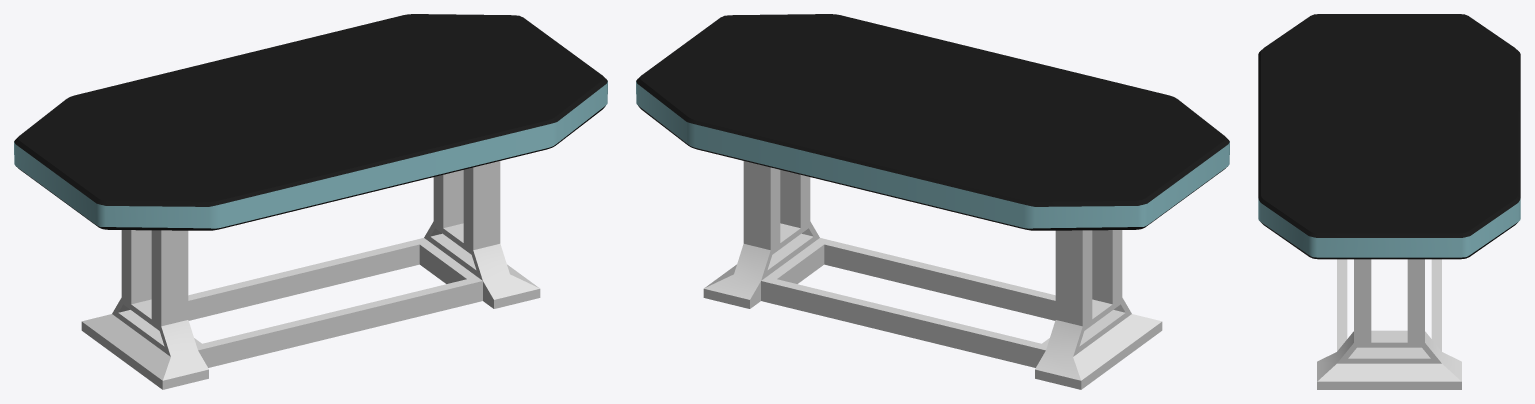
File: Table_V2A.fbx
The picture shows the model from 3 angles, left to right: view 1: azimuth 30°, elevation 25°; view 2: azimuth 150°, elevation 25°; view 3: azimuth 270°, elevation 25°; orthographic projection. The views are drawn at different scales.
Parts seen in each view (by area): view 1: Table_V2A; view 2: Table_V2A; view 3: Table_V2A.
Boxes of the visible parts, x1,y1,x2,y2 form: Table_V2A: (14,14,607,389); Table_V2A: (636,14,1229,389); Table_V2A: (1258,14,1520,389).
Bounding box in the file's own units: 200 × 77.4 × 100.
